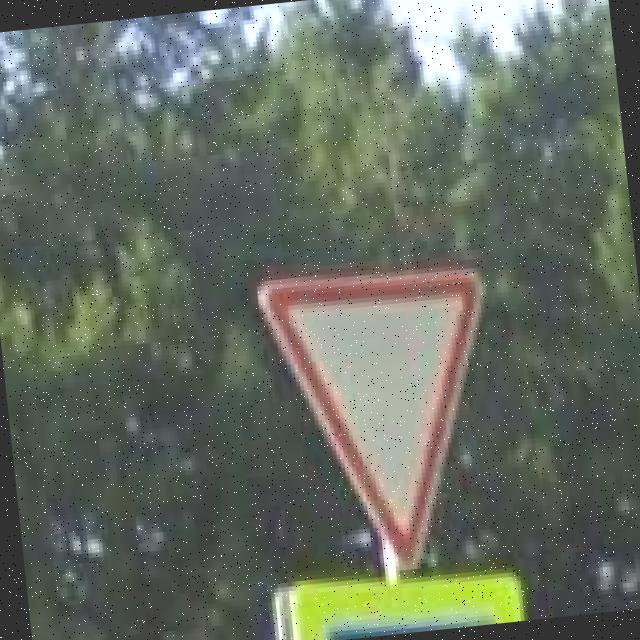Ustap pierwszenstwa: (256, 258, 510, 582)
